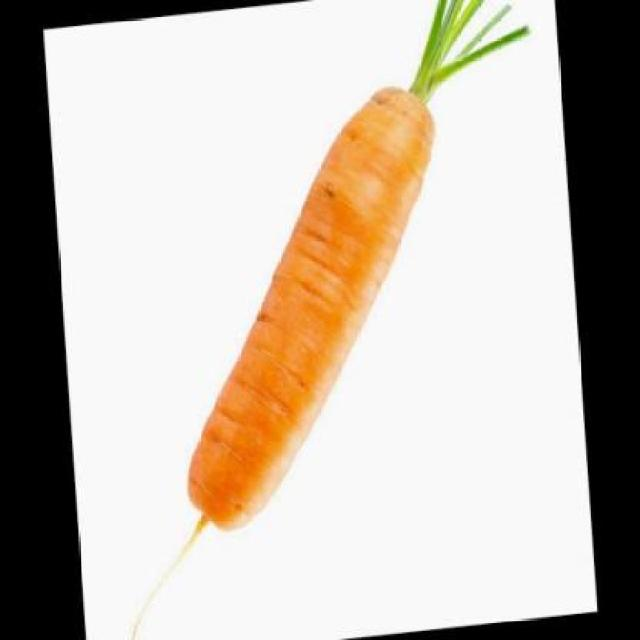carrot: (159, 81, 461, 536)
